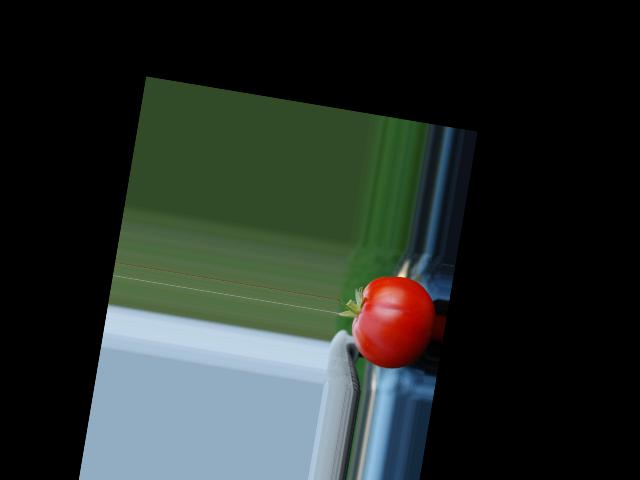tomato: (346, 270, 441, 374)
